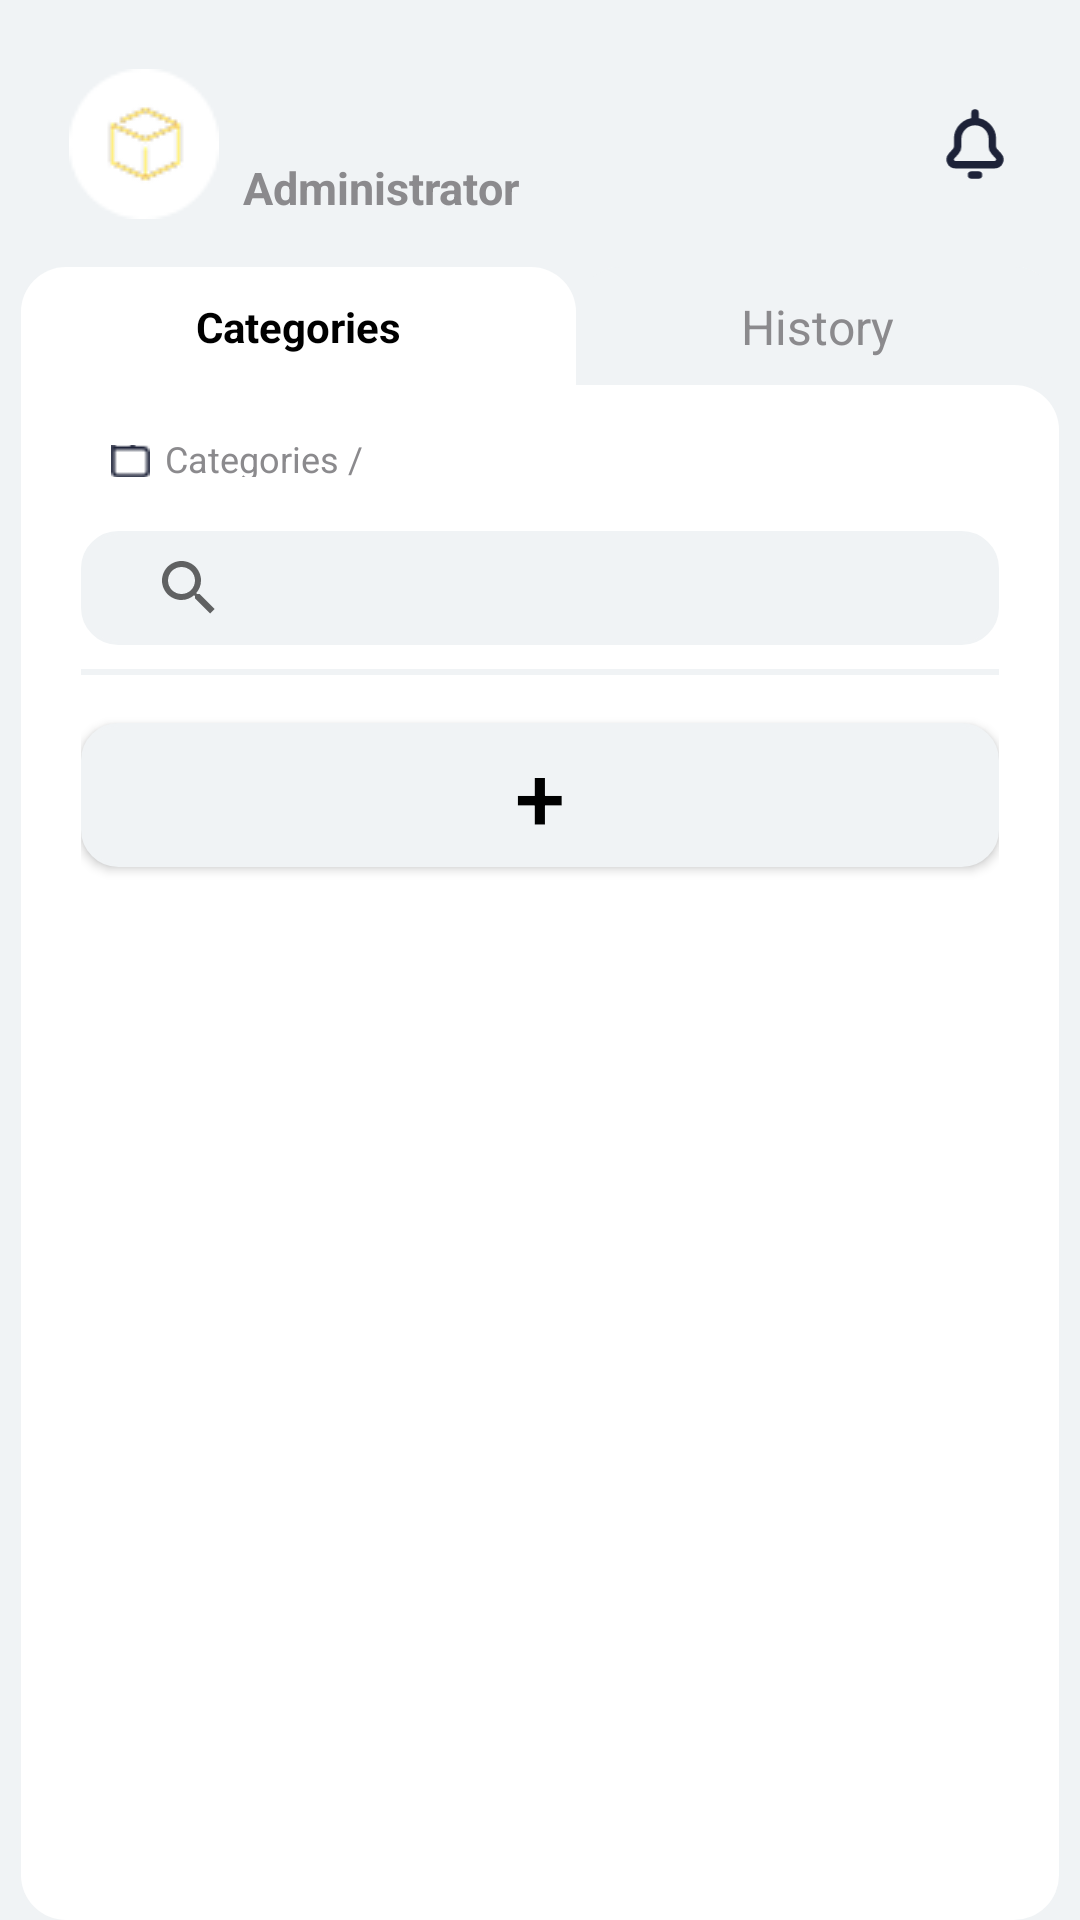

Named icons in this screenshot (1080*1920) and their bounding boxes, detection(x1, y1, x2, y2):
bell: detection(946, 109, 1004, 179)
